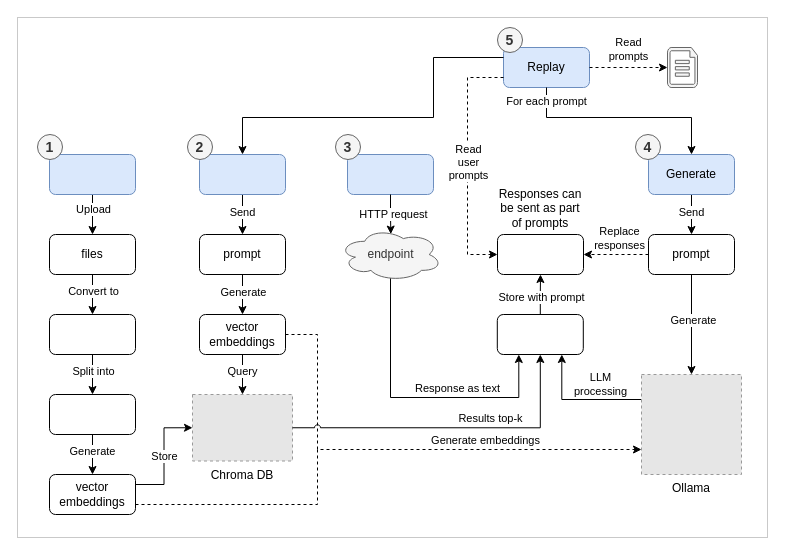
Some shapes in this 785 by 555 pixel diagram are drawn without their labels. Grey dashed boxes stand in for pictures. The shapes that lost their labels are listed below. From the top down, each one's box as (x1, y1, x2, y2) in pixels, then its label:
(666, 46, 698, 88): TXT file
(48, 154, 136, 194): Index context from files
(198, 154, 286, 194): Get context
(346, 154, 434, 194): Get endpoint
(496, 234, 584, 274): prompt history
(48, 314, 136, 354): txt
(496, 314, 583, 354): response
(48, 394, 136, 434): chunks
